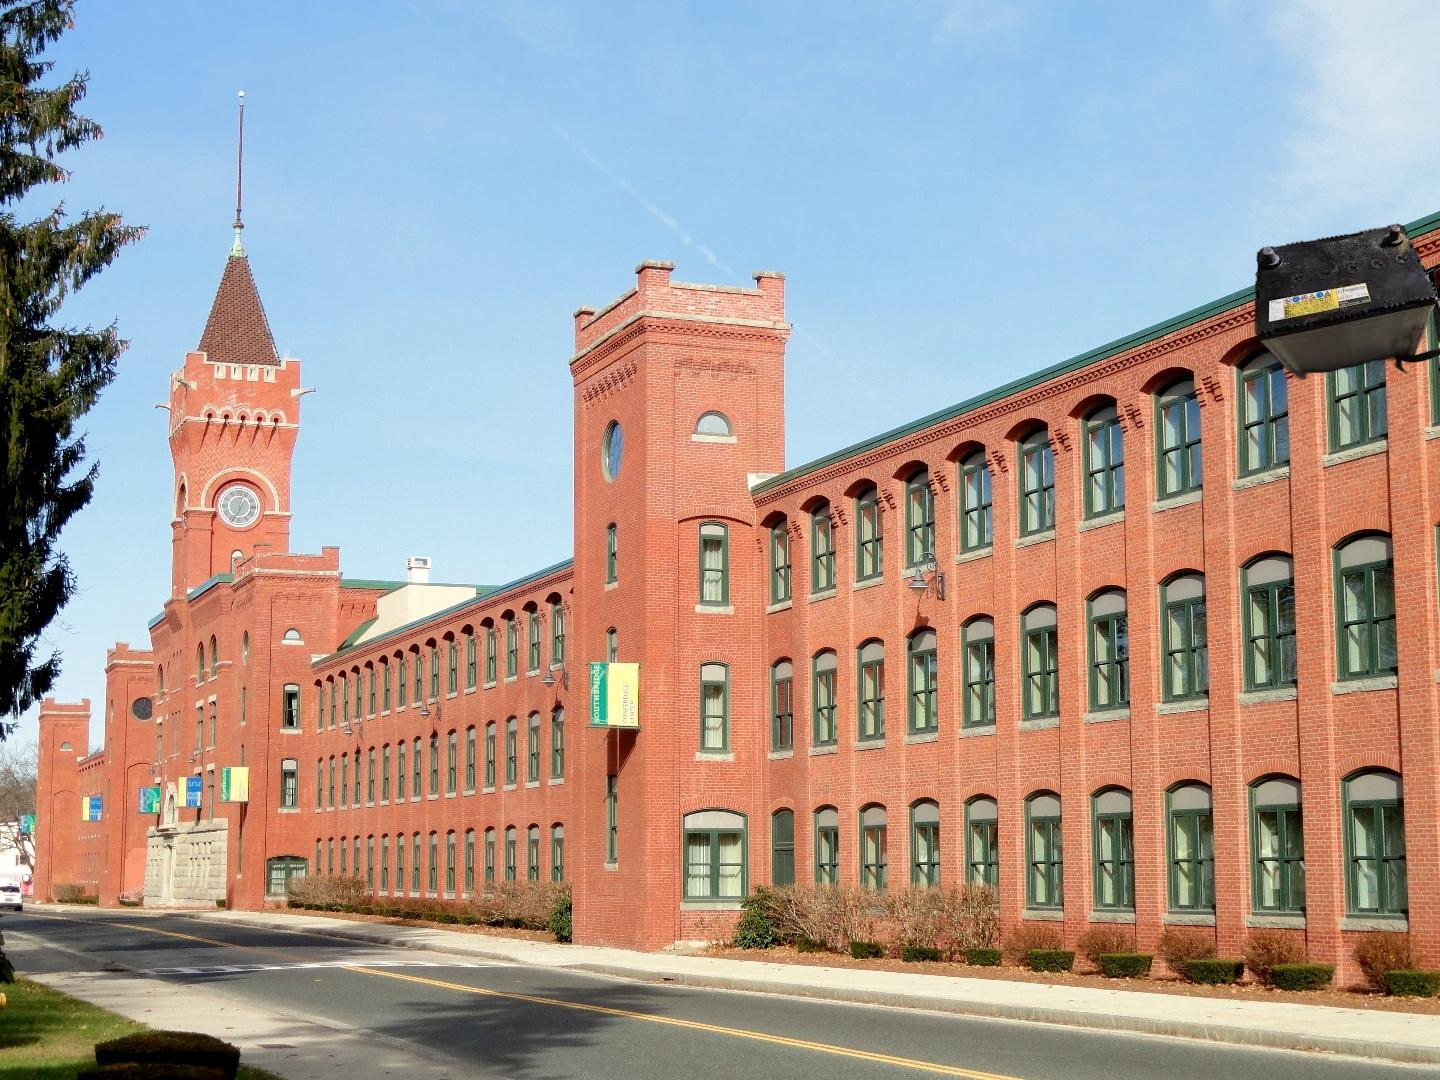battery: (1251, 220, 1440, 383)
